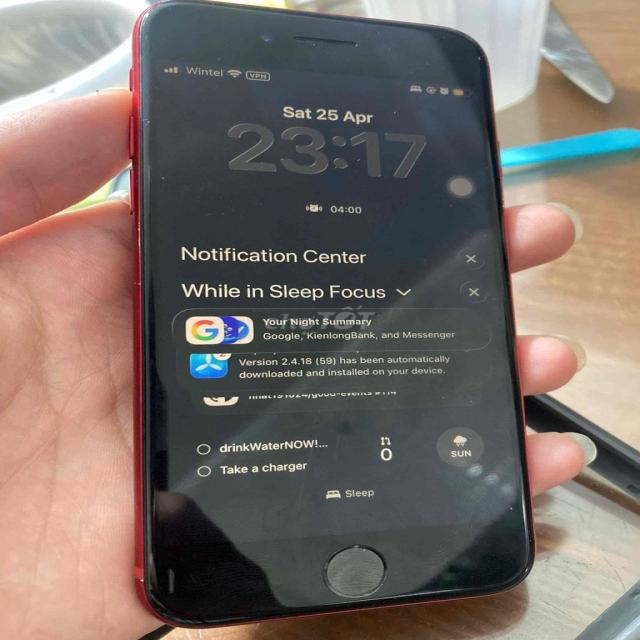gen_7_8: (107, 0, 548, 628)
scratch: (344, 32, 398, 55), (128, 7, 154, 41), (468, 51, 491, 71), (130, 220, 146, 248), (520, 559, 535, 579), (127, 275, 145, 291), (498, 498, 516, 514), (300, 39, 324, 49), (346, 542, 364, 553), (138, 575, 148, 584)
